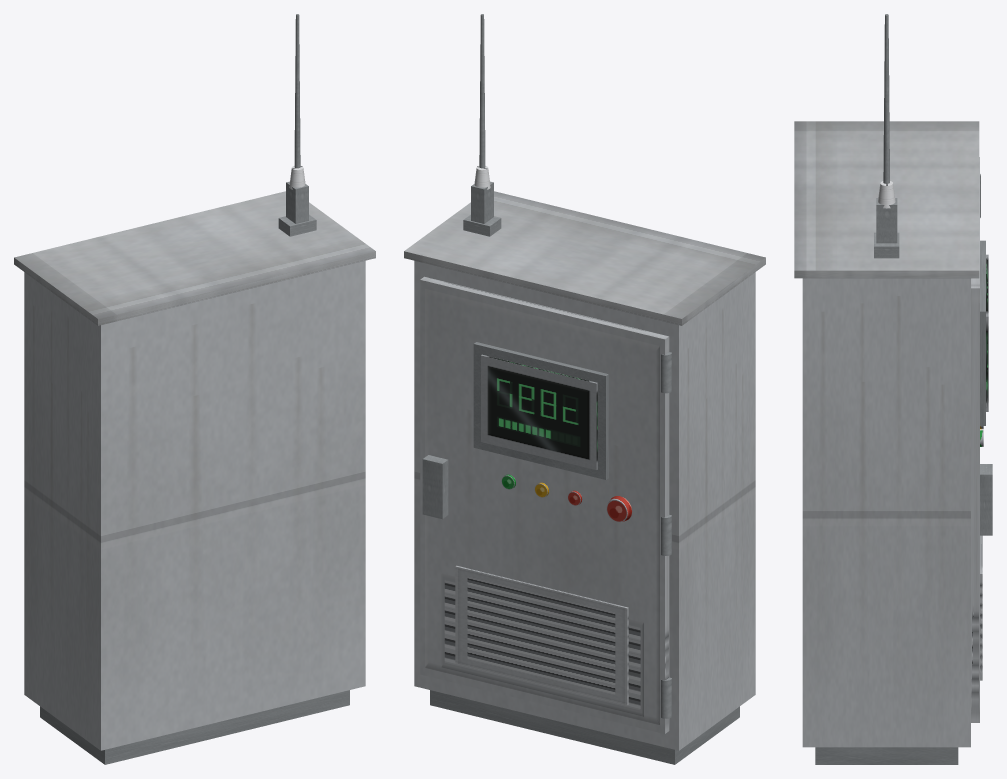
The model's file is plant_controller.obj.
3 views of the same model, side by side, from view 1: azimuth 30°, elevation 25°; view 2: azimuth 150°, elevation 25°; view 3: azimuth 270°, elevation 25° (orthographic). The views are drawn at different scales.
Parts seen in each view (by area): view 1: cabinet, plinth, antenna; view 2: door, cabinet, plinth, antenna; view 3: cabinet, door, antenna, plinth.
Boxes of the visible parts, x1=… form: cabinet: x1=14, y1=191, x2=375, y2=750; plinth: x1=40, y1=690, x2=349, y2=764; antenna: x1=278, y1=14, x2=316, y2=236; door: x1=420, y1=276, x2=671, y2=733; cabinet: x1=404, y1=191, x2=765, y2=750; plinth: x1=430, y1=690, x2=739, y2=764; antenna: x1=463, y1=14, x2=501, y2=236; cabinet: x1=794, y1=121, x2=979, y2=747; door: x1=971, y1=157, x2=992, y2=722; antenna: x1=874, y1=14, x2=899, y2=258; plinth: x1=815, y1=747, x2=958, y2=764.
Size of the model in its own units: 0.84 by 1.94 by 0.472.
